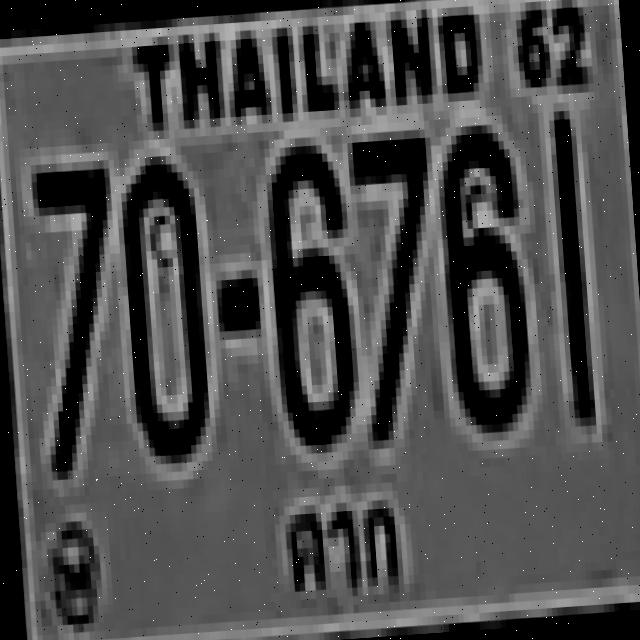0: (116, 154, 210, 457)
1: (546, 110, 592, 418)
6: (258, 135, 357, 447), (432, 115, 526, 426)
7: (346, 133, 445, 436), (28, 160, 122, 471), (349, 134, 440, 394), (31, 164, 118, 374)
Tak: (272, 486, 408, 598)
